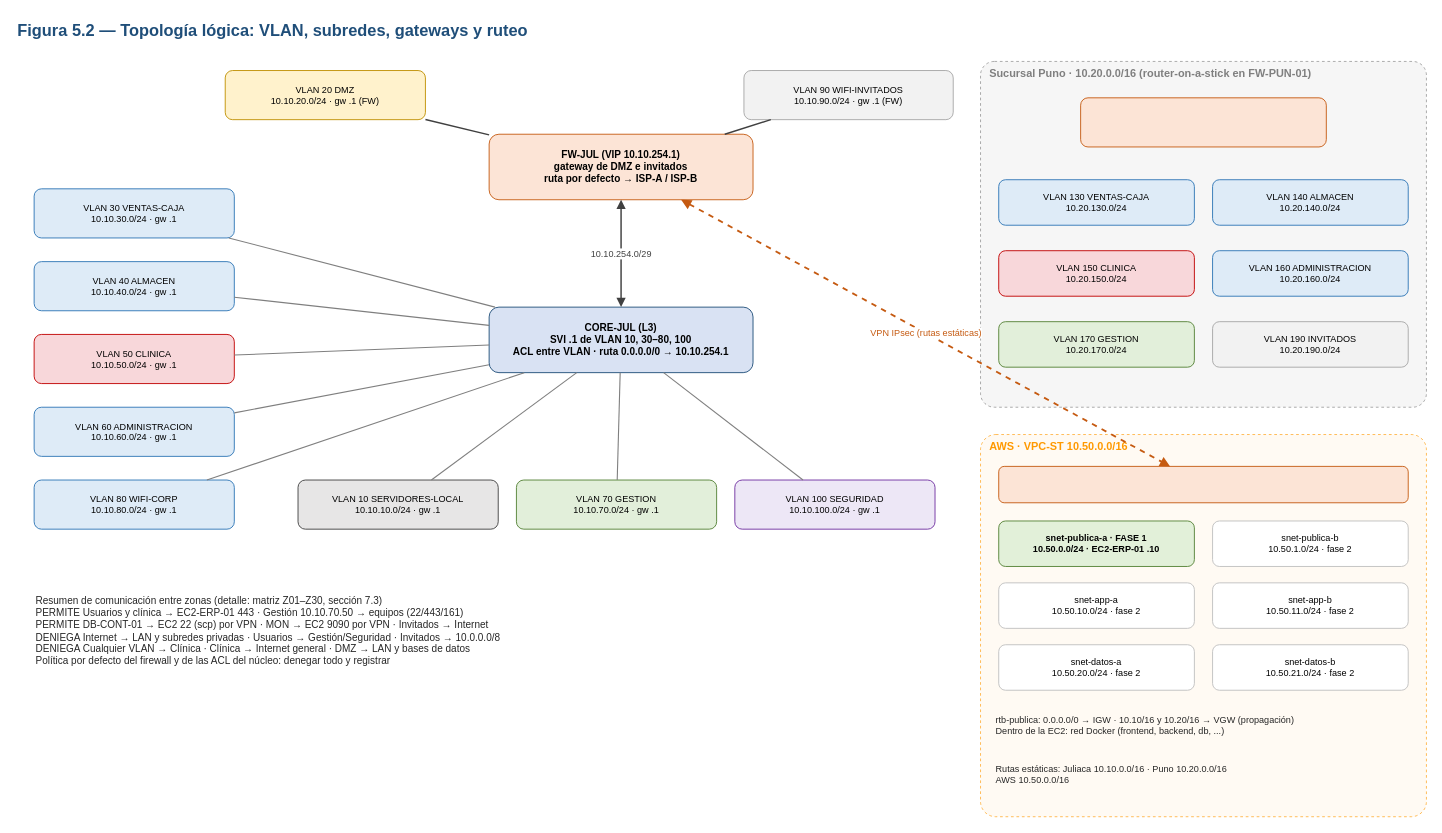
Image size: 1442x833. Some labels were removed from this diagram. Here are the shapes that lost their labels. From the top down, the centre of each, then its label:
pixel 1203 122: FW-PUN-01 gateways 10.20.x.1 · troncal 802.1Q
pixel 1203 484: VGW-ST · rutas estáticas 10.10.0.0/16 y 10.20.0.0/16
